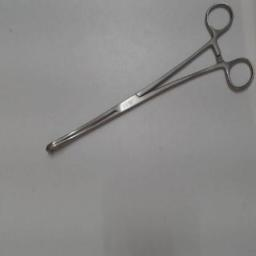Sponge Forceps: (39, 1, 255, 159)
